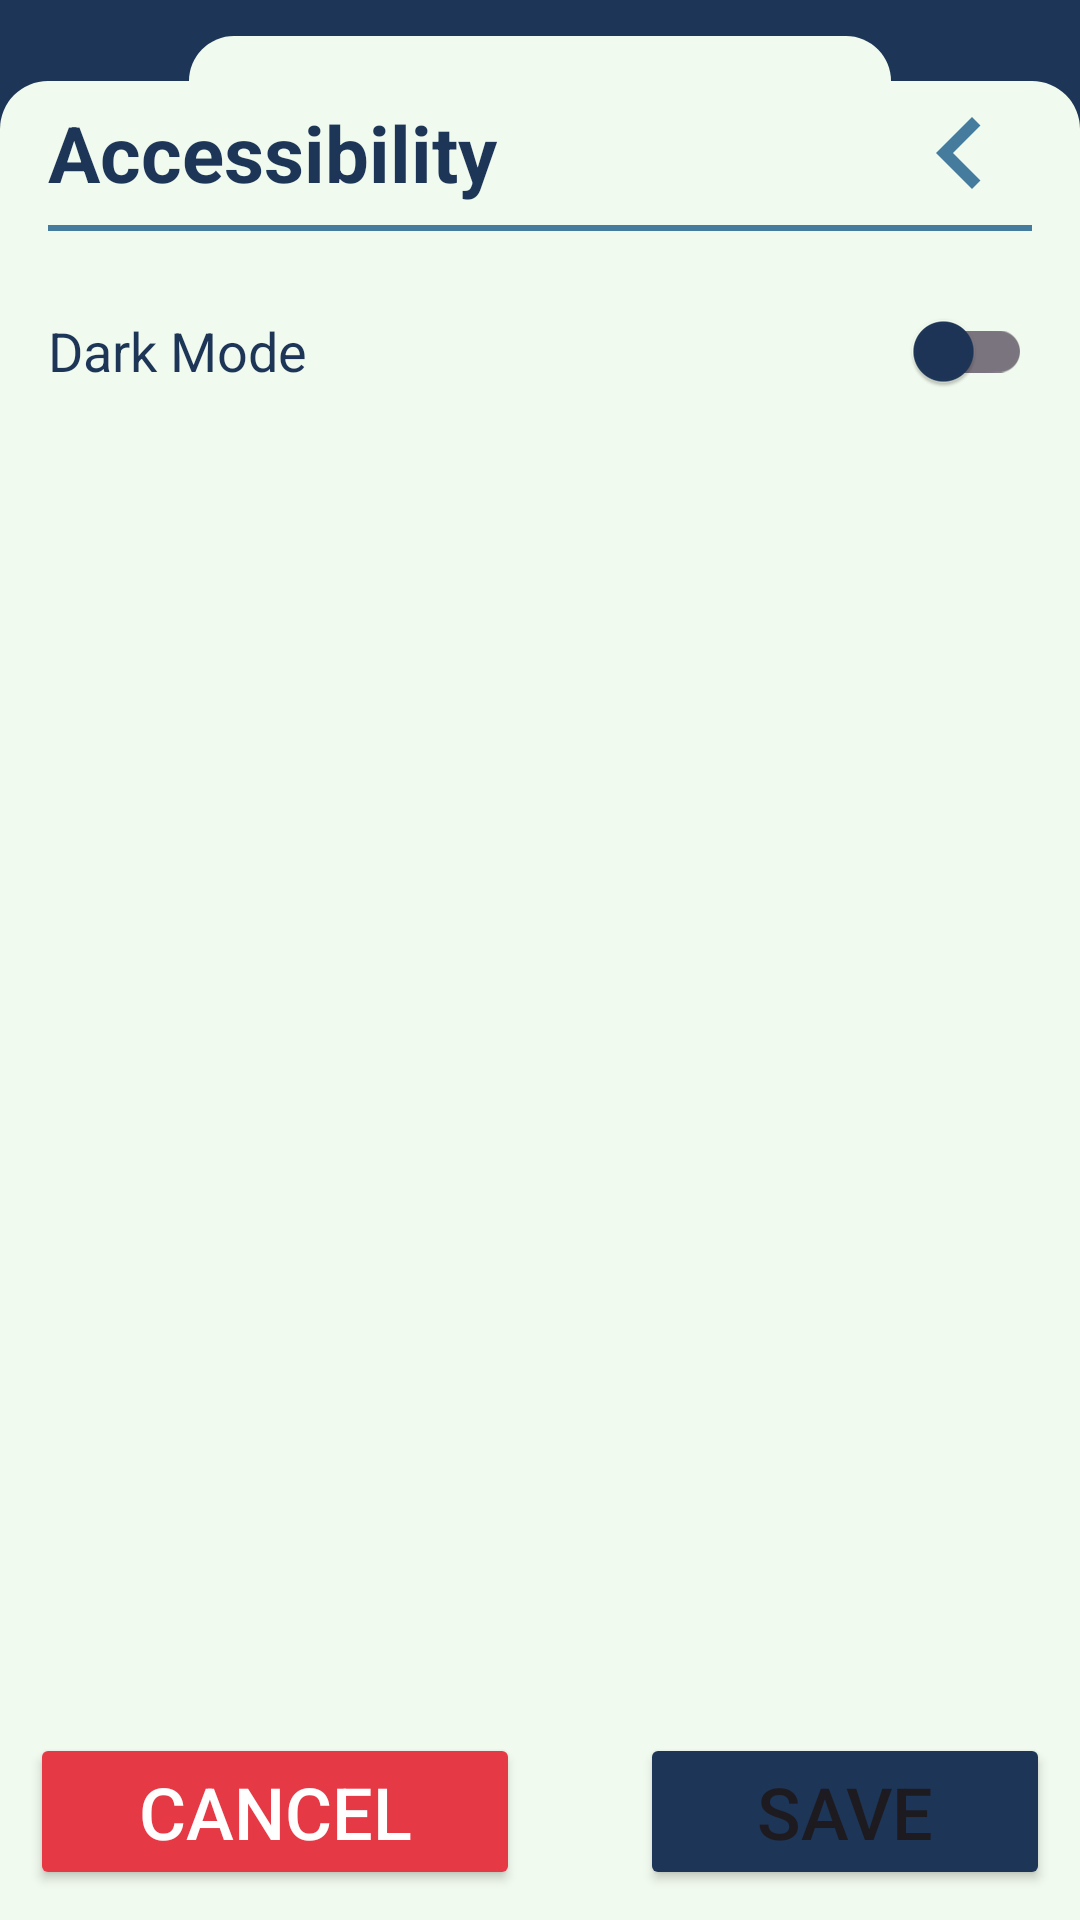

Icons on this 1080px×1920px Android screen, each with the point to tap as point (x, y):
Back: point (958, 153)
